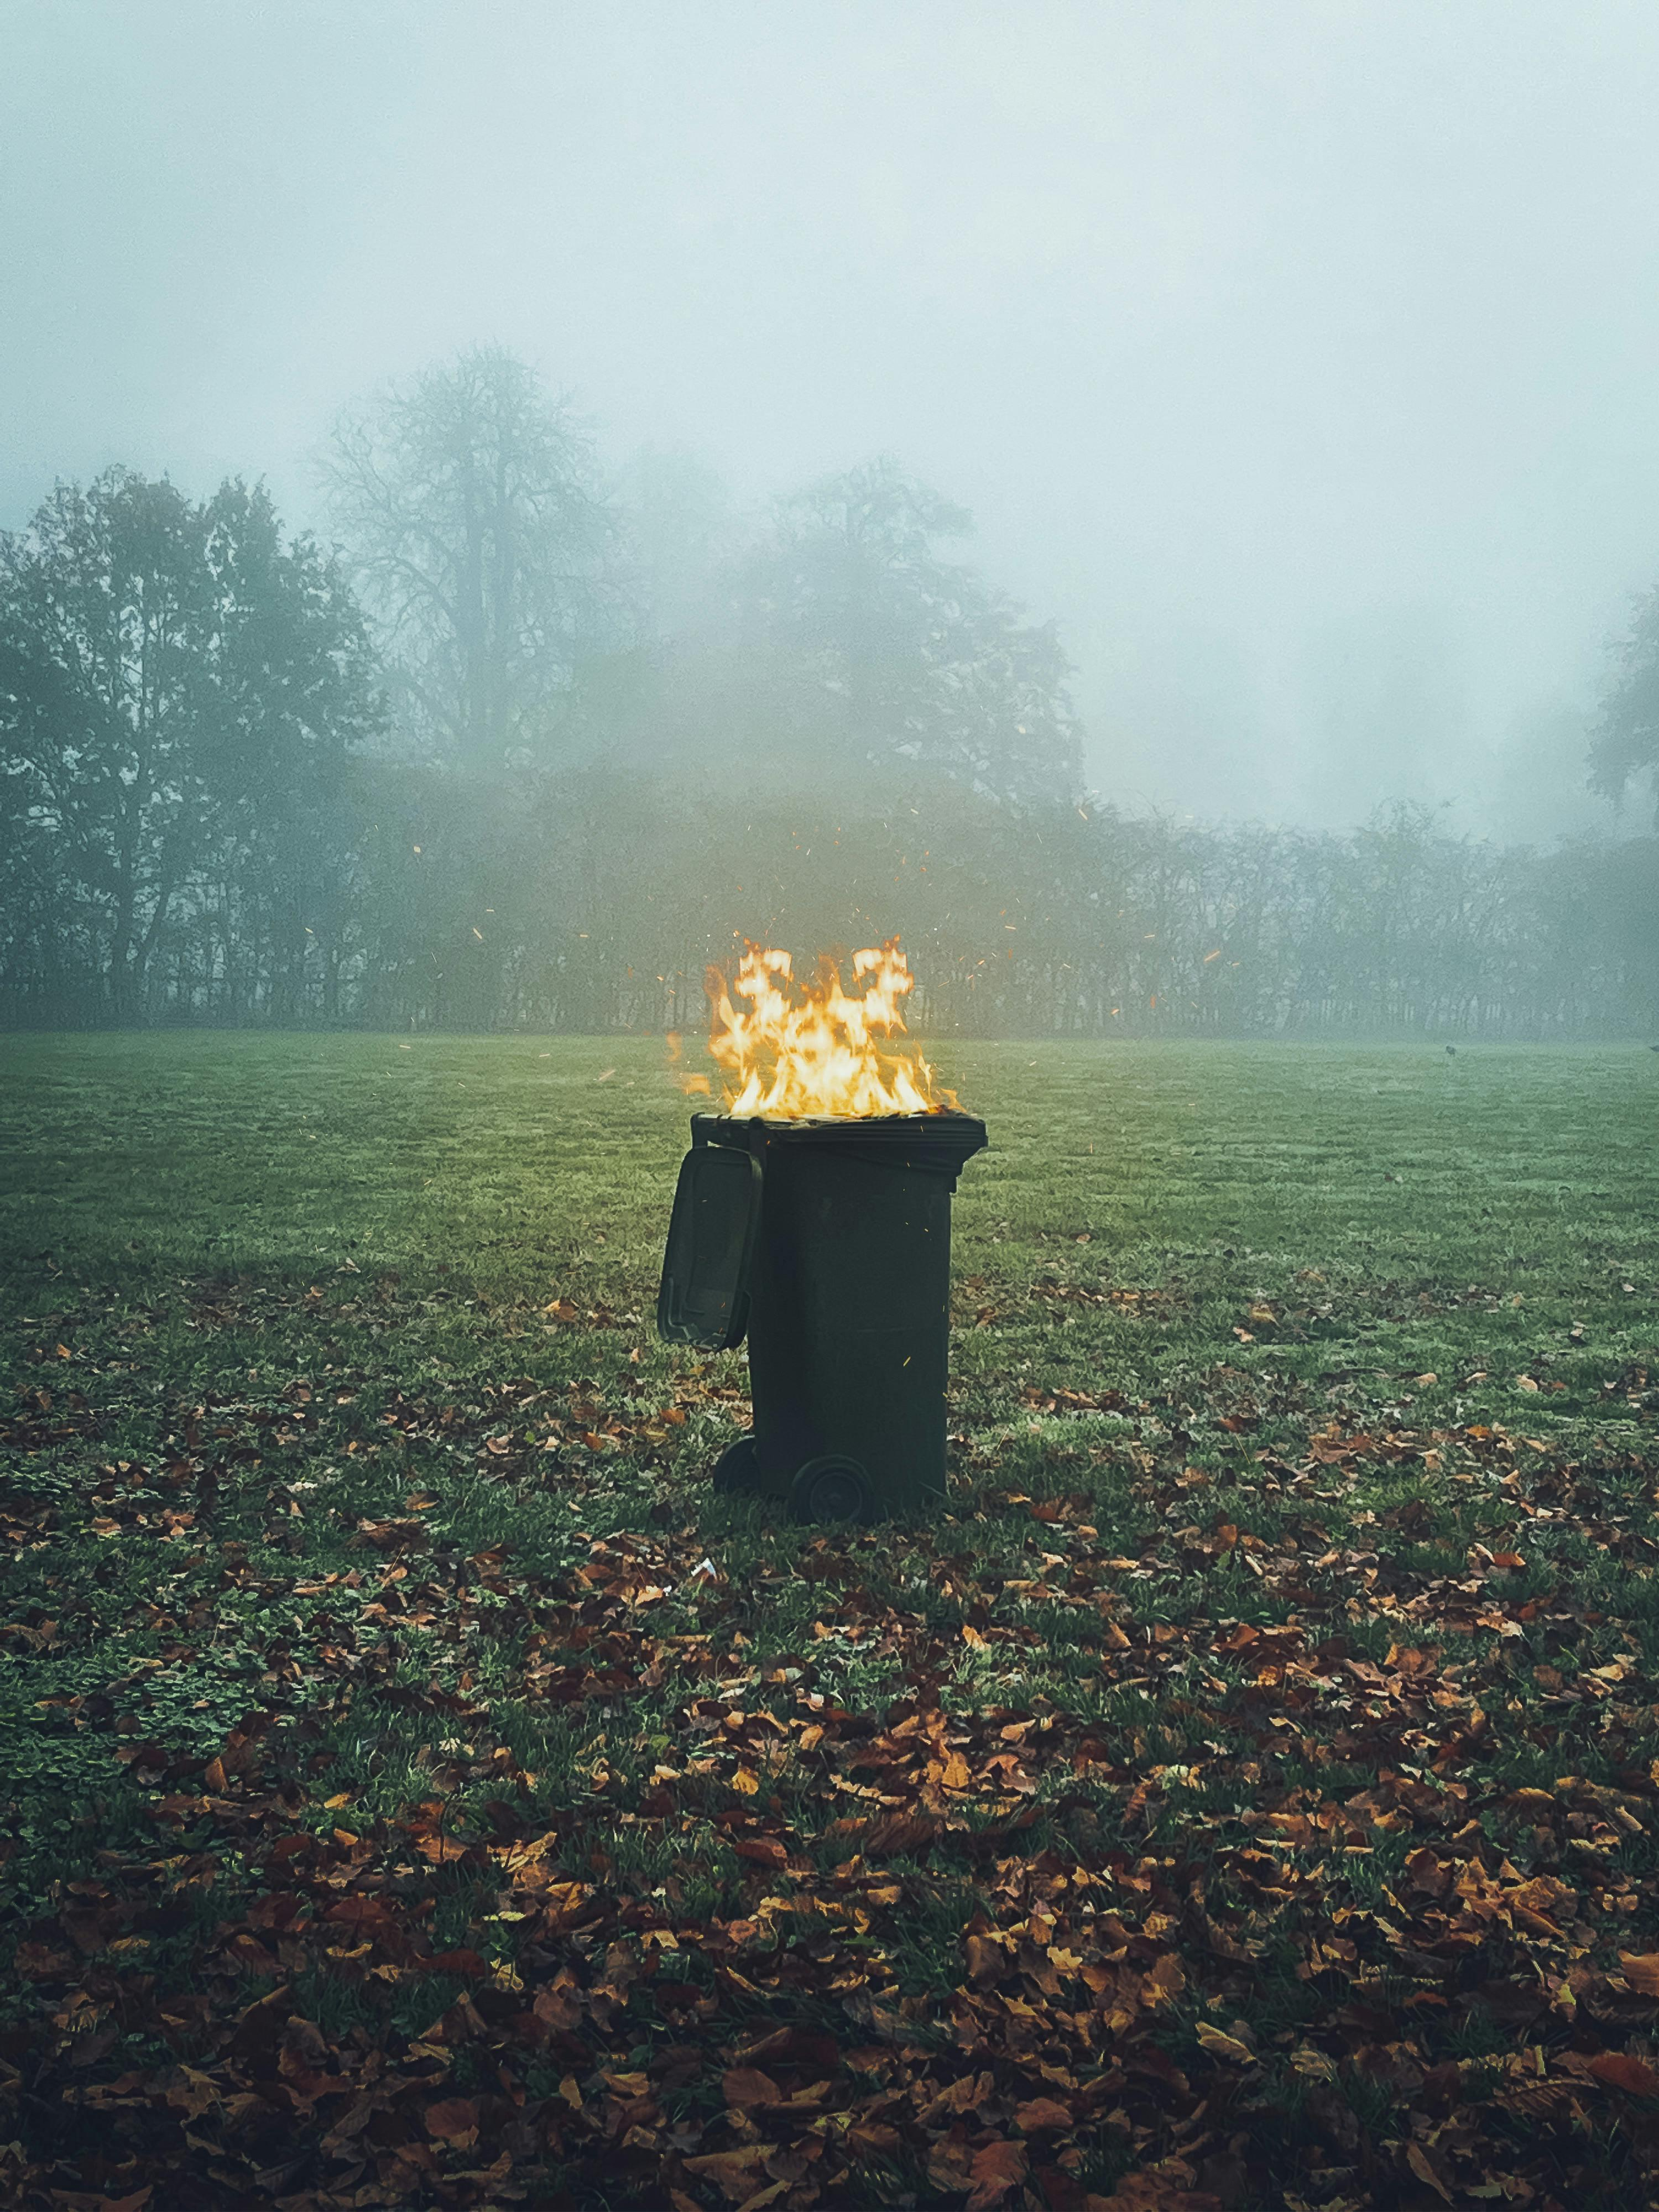Fire: (664, 892, 965, 1122)
